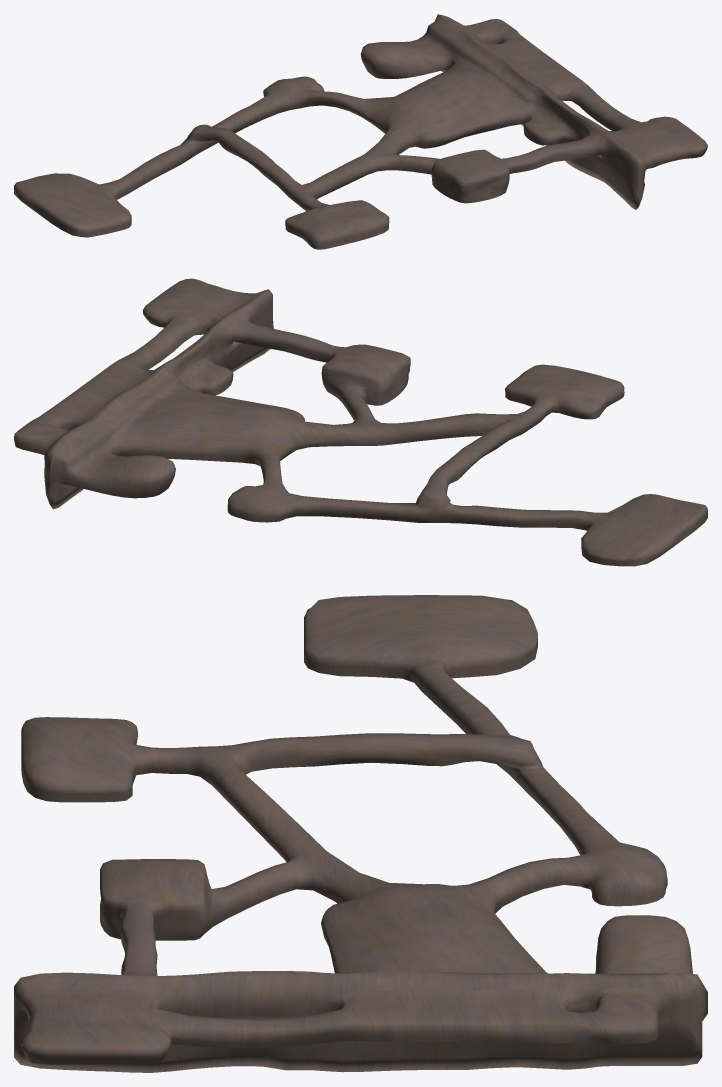
The model's file is Level1.fbx.
3 views of the same model, one above another, from view 1: azimuth 30°, elevation 25°; view 2: azimuth 150°, elevation 25°; view 3: azimuth 270°, elevation 25° (orthographic). The views are drawn at different scales.
Visible parts, largest first — view 1: Floor1_walls; view 2: Floor1_walls; view 3: Floor1_walls.
Boxes of the visible parts, x1=… form: Floor1_walls: x1=14, y1=14, x2=707, y2=249; Floor1_walls: x1=14, y1=278, x2=707, y2=566; Floor1_walls: x1=14, y1=595, x2=707, y2=1072.
Bounding box in the file's own units: 692 × 65.95 × 432.
Materials: 2 (2 with a texture image).
